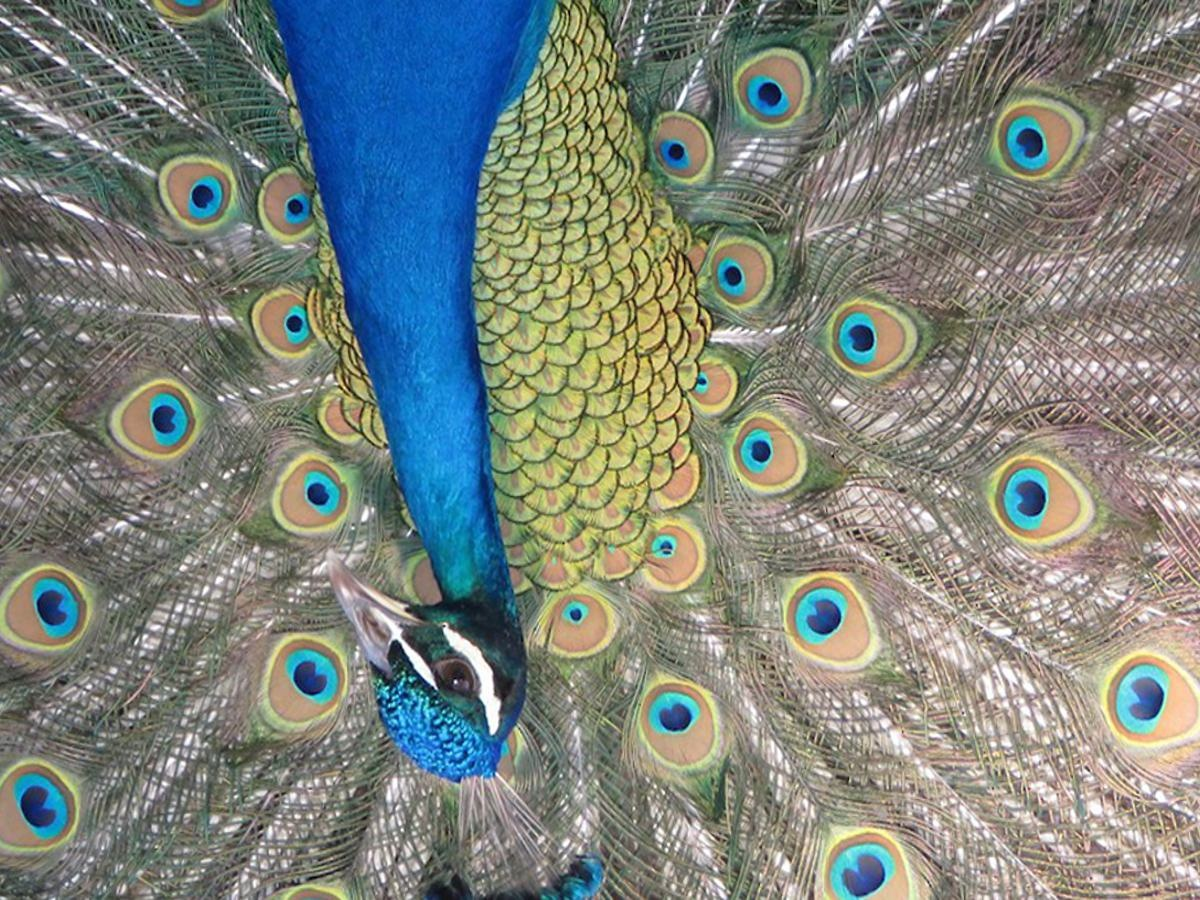peacock: (8, 6, 1200, 900)
